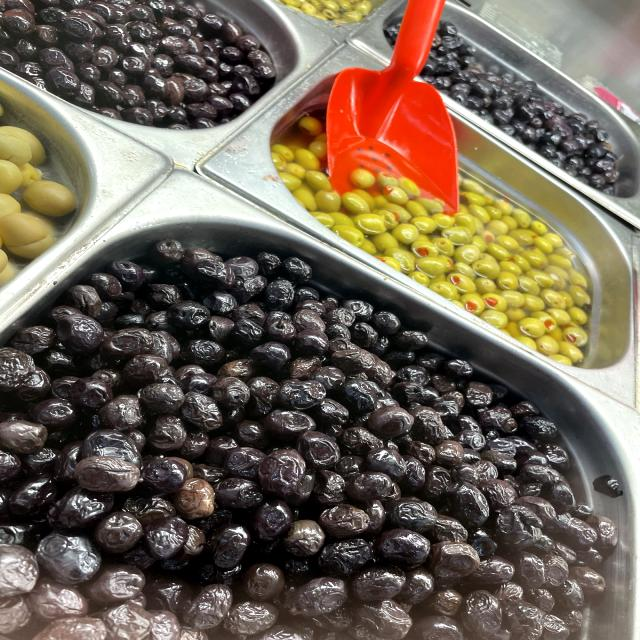olive: (4, 318, 432, 602), (17, 4, 251, 102), (64, 443, 155, 503), (244, 442, 316, 501), (440, 475, 501, 533), (95, 321, 160, 369), (179, 245, 224, 279)
